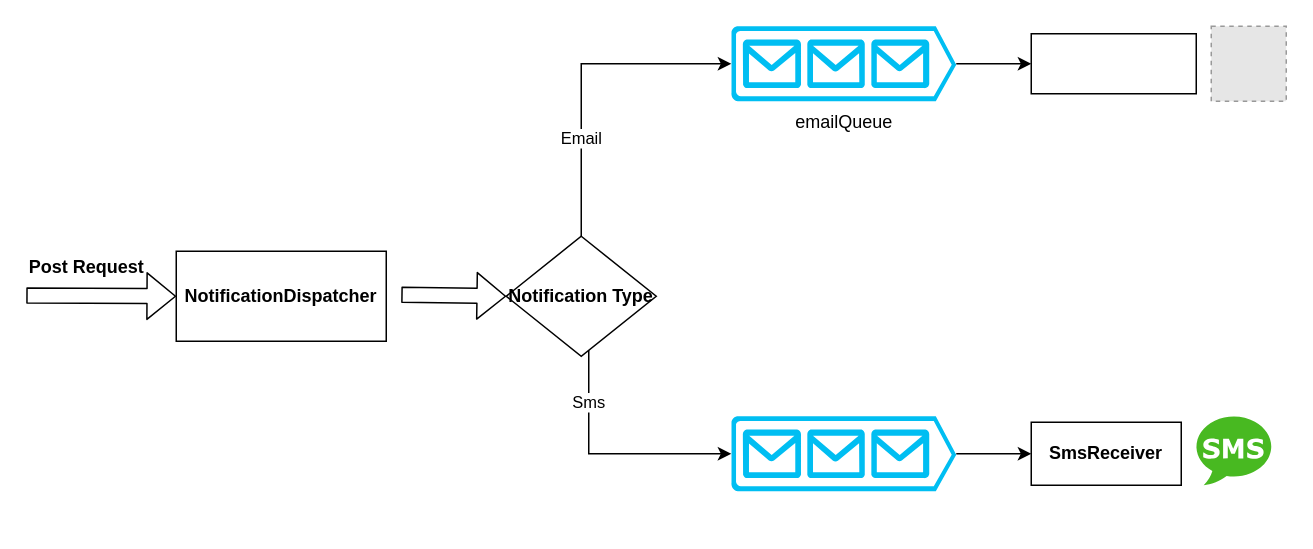
Image size: 1313x549. Some labels were removed from this diagram. Grey dashed boxes stand in for pictures. The centre of each missing label's shape, as x and y in pixels:
"EmailReceiver" belongs at [1113,63].
"smsQueue" belongs at [843,453].
